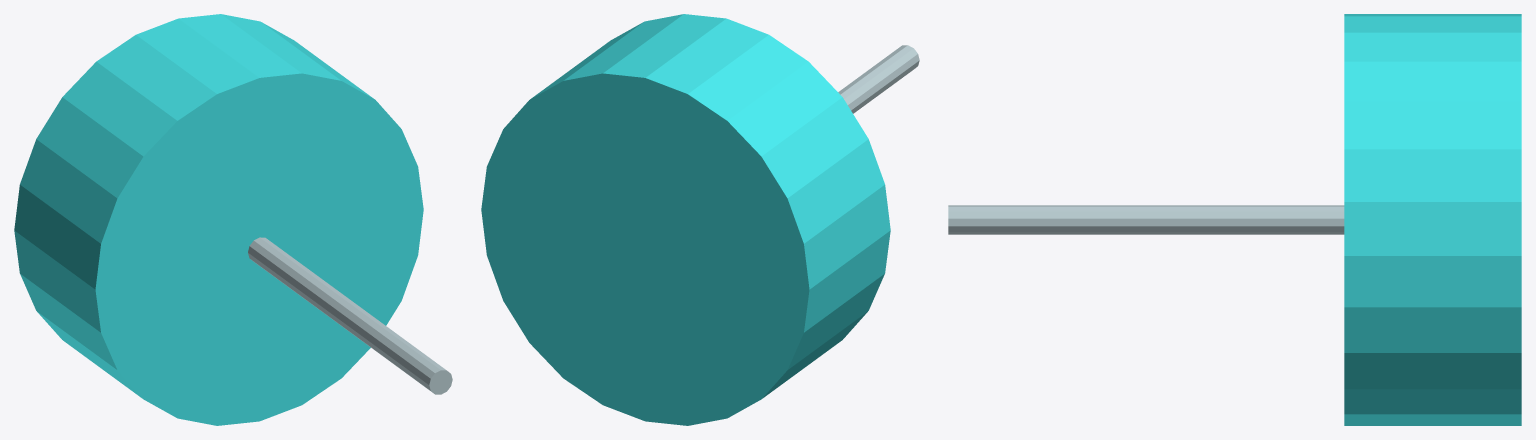
The model's file is pendant-light.glb.
3 renders of one model, left to right at view 1: azimuth 30°, elevation 25°; view 2: azimuth 150°, elevation 25°; view 3: azimuth 270°, elevation 25°, orthographic. The views are drawn at different scales.
Visible parts, largest first — view 1: world; view 2: world; view 3: world.
Boxes of the visible parts, x1,y1,x2,y2 form: world: (14, 14, 452, 425); world: (481, 14, 919, 425); world: (948, 14, 1521, 425).
Size of the model in its own units: 0.7 by 0.7 by 0.97.
